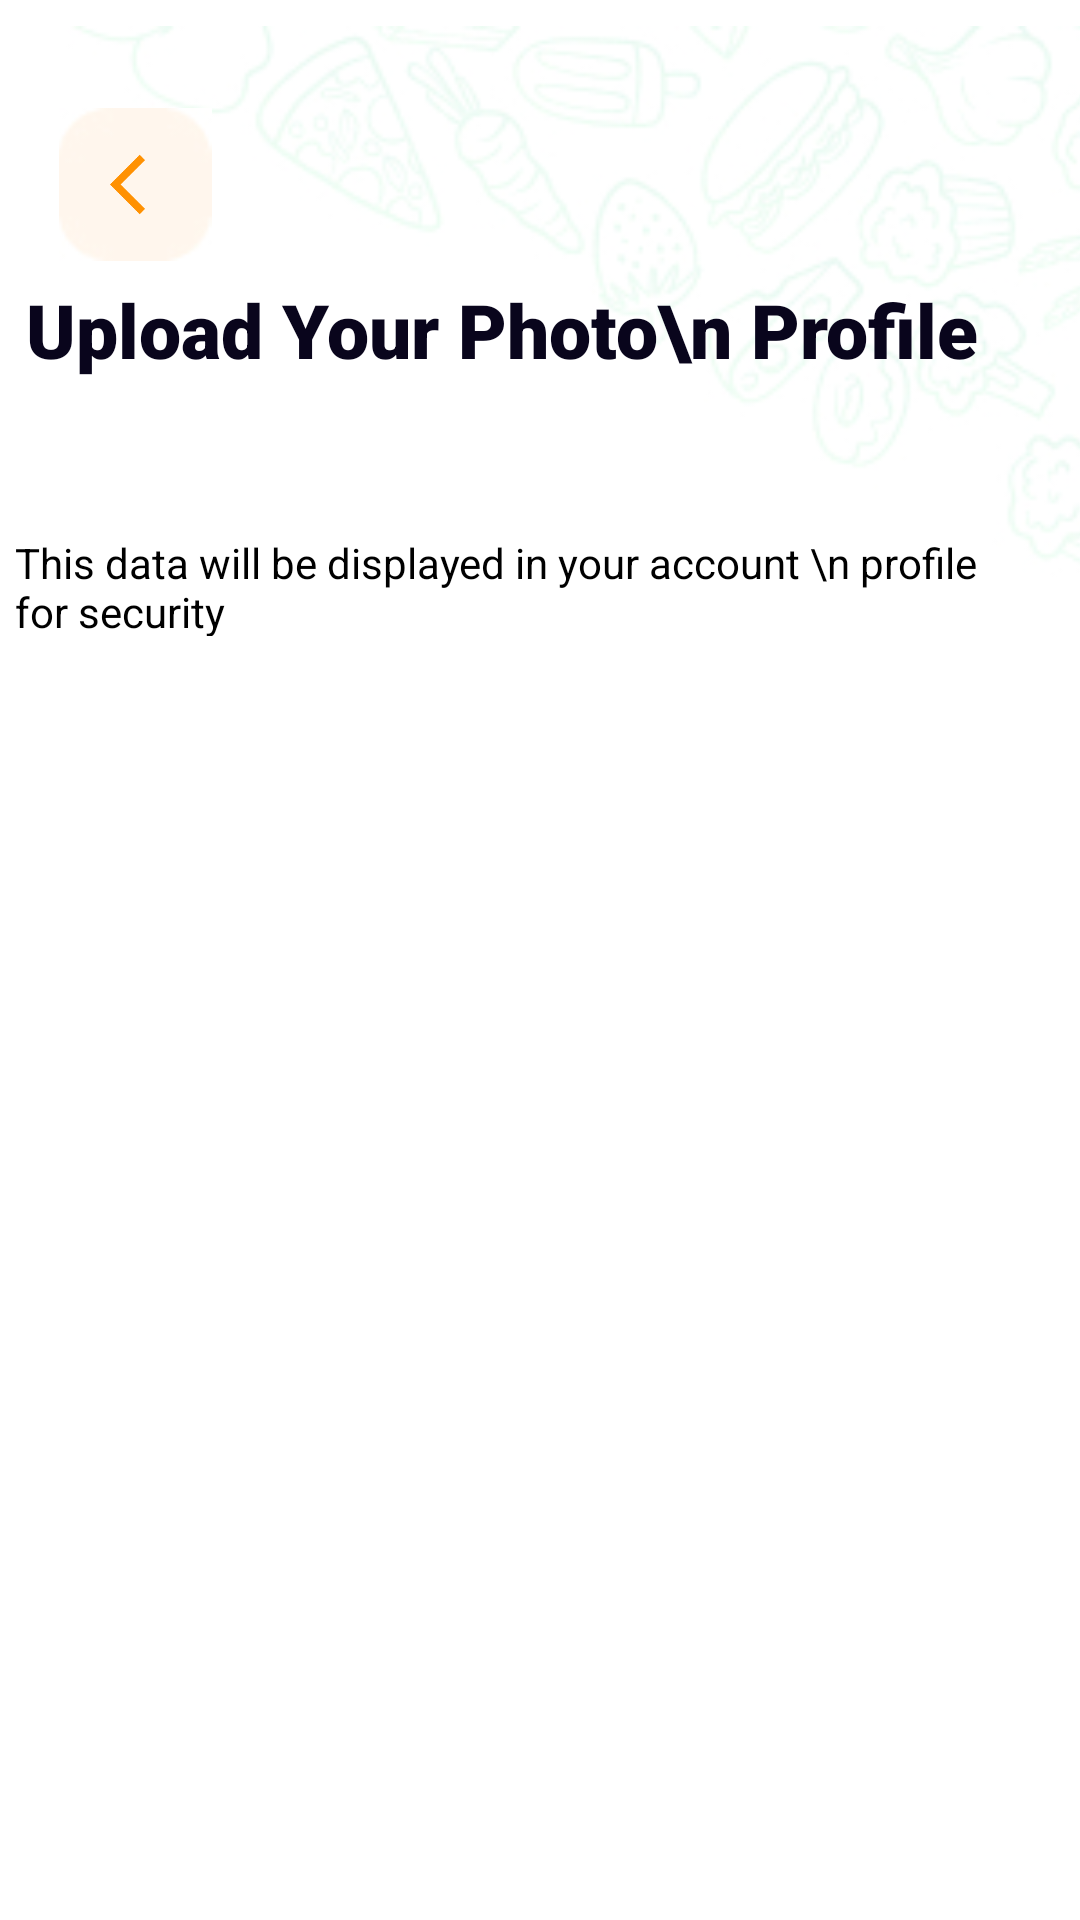

Locate icon controls on the screen. Image size 1080 x 1920, boxes as rect(x1, y1, x2, y2).
arrow back: rect(110, 155, 145, 214)
